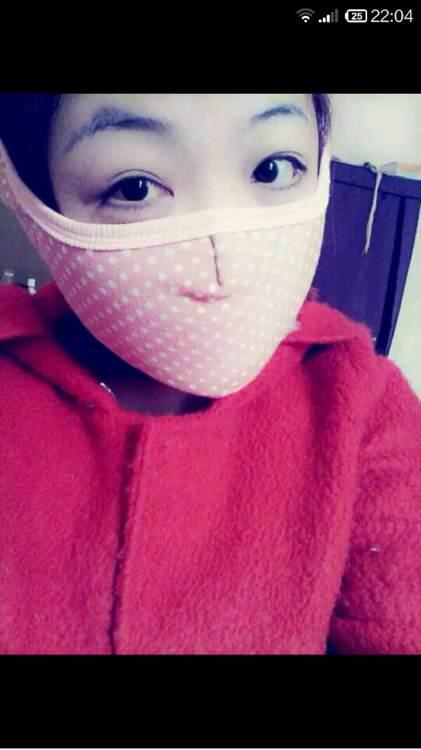OK: (60, 109, 328, 377)
